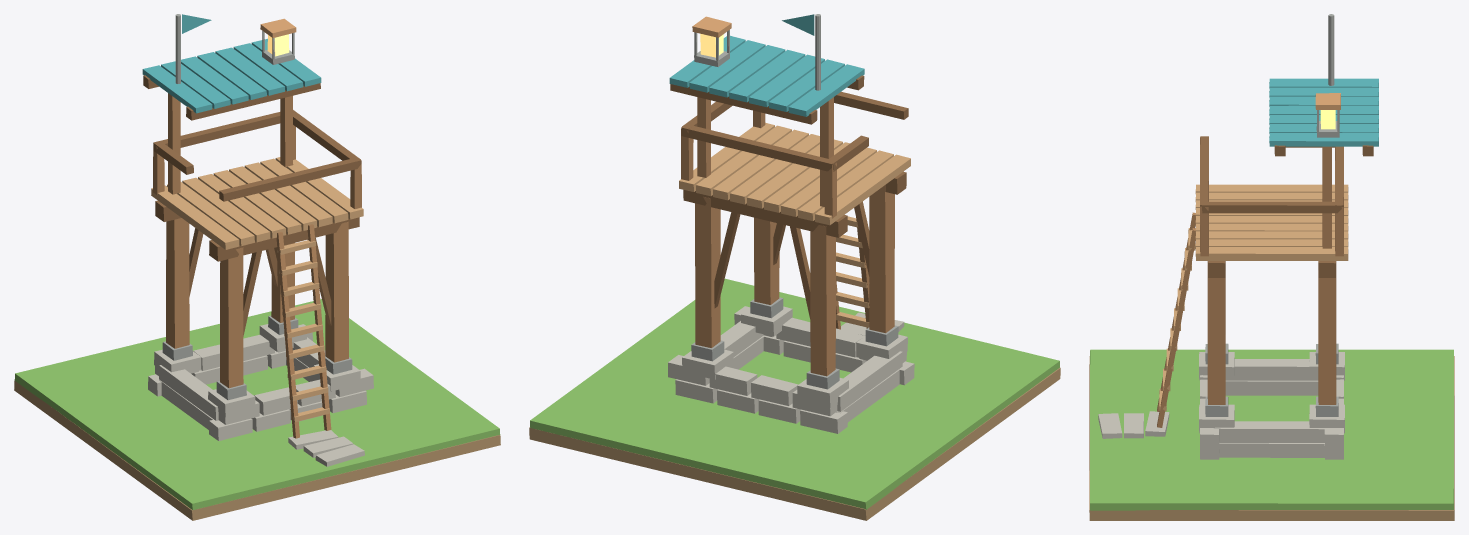
The model's file is tower_l02_active_LOD2.glb.
3 renders of one model, left to right at view 1: azimuth 30°, elevation 25°; view 2: azimuth 150°, elevation 25°; view 3: azimuth 270°, elevation 25°, orthographic. The views are drawn at different scales.
Visible parts, largest first — view 1: tower_l02_grass_tile_tower_l02_active_LOD2_tmp, tower_l02_earth_tile_tower_l02_active_LOD2_tmp, post_-0.61_-0.54_tower_l02_active_LOD2_tmp, post_-0.61_0.54_tower_l02_active_LOD2_tmp, post_0.61_-0.54_tower_l02_active_LOD2_tmp, balcony_rail_-0.66_tower_l02_active_LOD2_tmp, deck_board_0_tower_l02_active_LOD2_tmp, deck_bearer_-0.54_tower_l02_active_LOD2_tmp, stone_return_1_-0.72_tower_l02_active_LOD2_tmp, ladder_rail_-0.18_tower_l02_active_LOD2_tmp, balcony_rail_0.66_tower_l02_active_LOD2_tmp, deck_board_2_tower_l02_active_LOD2_tmp (+33 smaller); view 2: tower_l02_grass_tile_tower_l02_active_LOD2_tmp, tower_l02_earth_tile_tower_l02_active_LOD2_tmp, post_-0.61_0.54_tower_l02_active_LOD2_tmp, post_-0.61_-0.54_tower_l02_active_LOD2_tmp, post_0.61_0.54_tower_l02_active_LOD2_tmp, balcony_rail_0.66_tower_l02_active_LOD2_tmp, post_0.61_-0.54_tower_l02_active_LOD2_tmp, deck_bearer_0.54_tower_l02_active_LOD2_tmp, deck_board_0_tower_l02_active_LOD2_tmp, stone_return_1_-0.72_tower_l02_active_LOD2_tmp, canopy_board_0_tower_l02_active_LOD2_tmp, deck_board_6_tower_l02_active_LOD2_tmp (+34 smaller); view 3: tower_l02_grass_tile_tower_l02_active_LOD2_tmp, tower_l02_earth_tile_tower_l02_active_LOD2_tmp, post_0.61_0.54_tower_l02_active_LOD2_tmp, post_0.61_-0.54_tower_l02_active_LOD2_tmp, stone_return_1_0.72_tower_l02_active_LOD2_tmp, deck_board_8_tower_l02_active_LOD2_tmp, balcony_side_rail_tower_l02_active_LOD2_tmp, stone_return_1_-0.72_tower_l02_active_LOD2_tmp, stone_return_0_0.72_tower_l02_active_LOD2_tmp, stone_return_0_-0.72_tower_l02_active_LOD2_tmp, canopy_board_6_tower_l02_active_LOD2_tmp, ladder_rail_0.18_tower_l02_active_LOD2_tmp (+26 smaller).
Part boxes in pixels (bbox=[...]): tower_l02_grass_tile_tower_l02_active_LOD2_tmp: bbox=[14, 299, 500, 509]; tower_l02_earth_tile_tower_l02_active_LOD2_tmp: bbox=[14, 380, 500, 520]; post_-0.61_-0.54_tower_l02_active_LOD2_tmp: bbox=[220, 247, 243, 388]; post_-0.61_0.54_tower_l02_active_LOD2_tmp: bbox=[166, 218, 189, 348]; post_0.61_-0.54_tower_l02_active_LOD2_tmp: bbox=[325, 222, 348, 362]; balcony_rail_-0.66_tower_l02_active_LOD2_tmp: bbox=[219, 159, 361, 201]; deck_board_0_tower_l02_active_LOD2_tmp: bbox=[151, 185, 239, 249]; deck_bearer_-0.54_tower_l02_active_LOD2_tmp: bbox=[209, 217, 359, 261]; stone_return_1_-0.72_tower_l02_active_LOD2_tmp: bbox=[159, 365, 218, 420]; ladder_rail_-0.18_tower_l02_active_LOD2_tmp: bbox=[276, 232, 299, 438]; balcony_rail_0.66_tower_l02_active_LOD2_tmp: bbox=[153, 110, 295, 147]; deck_board_2_tower_l02_active_LOD2_tmp: bbox=[182, 177, 270, 242]; tower_l02_grass_tile_tower_l02_active_LOD2_tmp: bbox=[530, 278, 1059, 509]; tower_l02_earth_tile_tower_l02_active_LOD2_tmp: bbox=[529, 367, 1060, 520]; post_-0.61_0.54_tower_l02_active_LOD2_tmp: bbox=[810, 225, 835, 376]; post_-0.61_-0.54_tower_l02_active_LOD2_tmp: bbox=[869, 185, 894, 333]; post_0.61_0.54_tower_l02_active_LOD2_tmp: bbox=[695, 196, 720, 347]; balcony_rail_0.66_tower_l02_active_LOD2_tmp: bbox=[681, 124, 832, 171]; post_0.61_-0.54_tower_l02_active_LOD2_tmp: bbox=[754, 217, 779, 304]; deck_bearer_0.54_tower_l02_active_LOD2_tmp: bbox=[683, 190, 847, 237]; deck_board_0_tower_l02_active_LOD2_tmp: bbox=[815, 154, 910, 225]; stone_return_1_-0.72_tower_l02_active_LOD2_tmp: bbox=[837, 351, 902, 411]; canopy_board_0_tower_l02_active_LOD2_tmp: bbox=[788, 64, 864, 116]; deck_board_6_tower_l02_active_LOD2_tmp: bbox=[713, 129, 808, 200]; tower_l02_grass_tile_tower_l02_active_LOD2_tmp: bbox=[1090, 349, 1453, 510]; tower_l02_earth_tile_tower_l02_active_LOD2_tmp: bbox=[1089, 356, 1454, 520]; post_0.61_0.54_tower_l02_active_LOD2_tmp: bbox=[1318, 261, 1336, 404]; post_0.61_-0.54_tower_l02_active_LOD2_tmp: bbox=[1207, 264, 1225, 404]; stone_return_1_0.72_tower_l02_active_LOD2_tmp: bbox=[1213, 421, 1328, 442]; deck_board_8_tower_l02_active_LOD2_tmp: bbox=[1195, 247, 1348, 260]; balcony_side_rail_tower_l02_active_LOD2_tmp: bbox=[1202, 201, 1341, 213]; stone_return_1_-0.72_tower_l02_active_LOD2_tmp: bbox=[1234, 359, 1317, 380]; stone_return_0_0.72_tower_l02_active_LOD2_tmp: bbox=[1219, 443, 1324, 457]; stone_return_0_-0.72_tower_l02_active_LOD2_tmp: bbox=[1225, 380, 1318, 395]; canopy_board_6_tower_l02_active_LOD2_tmp: bbox=[1269, 133, 1378, 146]; ladder_rail_0.18_tower_l02_active_LOD2_tmp: bbox=[1157, 228, 1195, 427].
Size of the model in its own units: 3.57 by 4.35 by 3.57.
